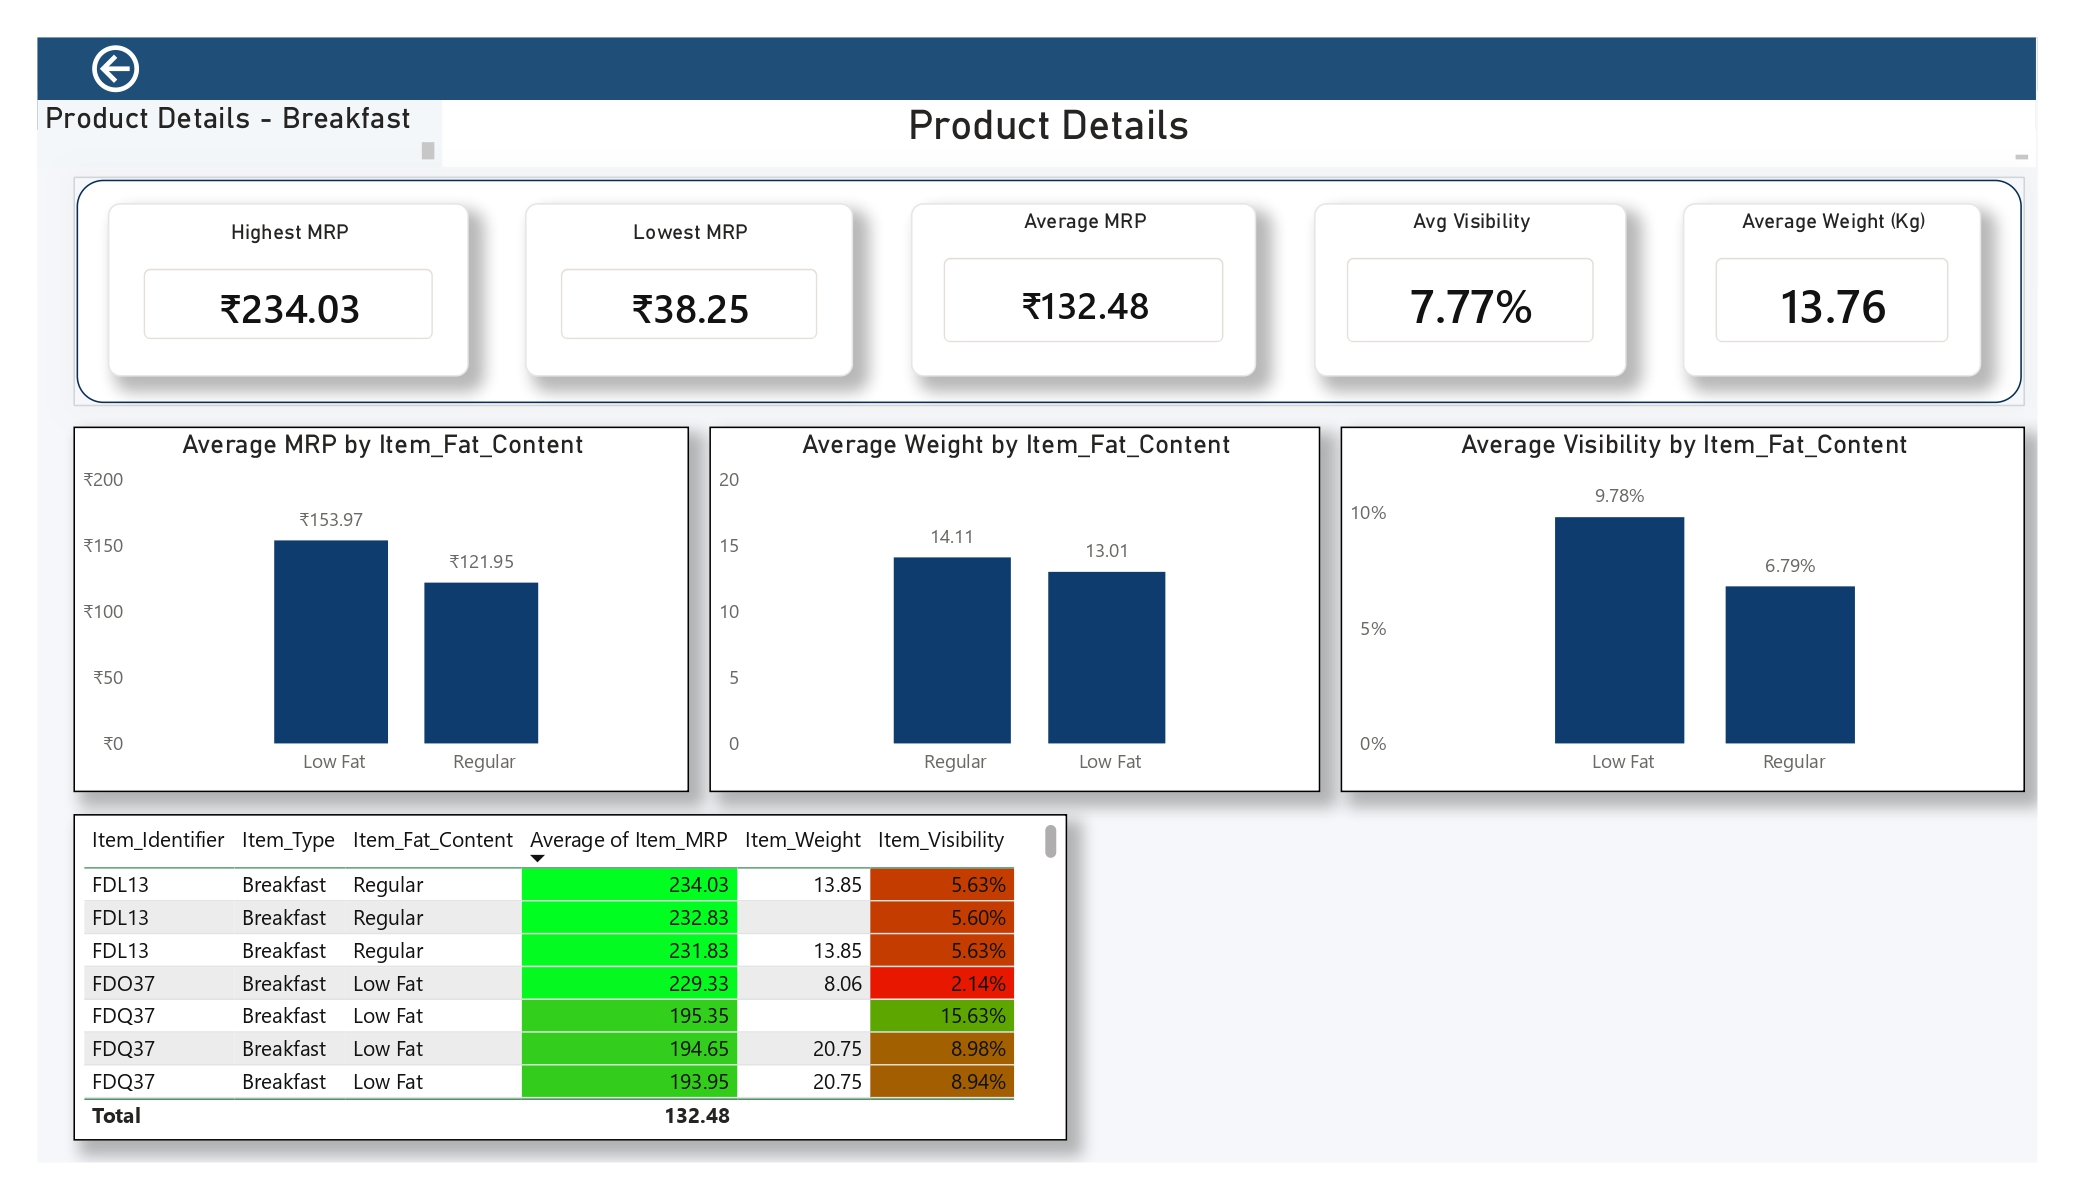

What the dashboard file says about the page in this screenshot:
{"tool":"powerbi","page":{"name":"Product Details","canvas":[1280,720],"ordinal":4},"visuals":[{"type":"shape","box":[0,0,1279.3,58.9],"z":0},{"type":"textbox","title":"Product Details","box":[0,39.9,1279.3,43.3],"z":1000},{"type":"textbox","box":[0,39.6,258.6,43.4],"z":2000},{"type":"actionButton","box":[30.2,0,100.1,39.6],"z":7000},{"type":"shape","box":[22.7,88.7,1249.8,147.3],"z":8000},{"type":"cardVisual","title":"Highest MRP","fields":{"Data":["Meaures.Highest MRP"]},"box":[45.3,105.7,230.3,111.4],"z":9000},{"type":"cardVisual","title":"Lowest MRP","fields":{"Data":["Meaures.Lowest MRP"]},"box":[312.4,105.7,209.6,111.4],"z":10000},{"type":"cardVisual","title":"Average MRP","fields":{"Data":["Meaures.Average MRP"]},"box":[558.8,105.7,220.9,111.4],"z":11000},{"type":"cardVisual","title":"Avg Visibility","fields":{"Data":["Meaures.Average Visibility"]},"box":[816.5,105.7,200.1,111.4],"z":12000},{"type":"cardVisual","title":"Average Weight (Kg)","fields":{"Data":["Meaures.Average Weight"]},"box":[1053.5,105.7,190.7,111.4],"z":13000},{"type":"clusteredColumnChart","fields":{"Y":["Meaures.Average MRP"],"Category":["Big Mart Sales.Item_Fat_Content"]},"box":[22.7,249.2,394.6,234.1],"z":14000},{"type":"clusteredColumnChart","fields":{"Category":["Big Mart Sales.Item_Fat_Content"],"Y":["Meaures.Average Weight"]},"box":[430.4,249.2,390.8,234.1],"z":15000},{"type":"clusteredColumnChart","fields":{"Y":["Meaures.Average Visibility"],"Category":["Big Mart Sales.Item_Fat_Content"]},"box":[834.5,249.2,438,234.1],"z":16000},{"type":"tableEx","fields":{"Values":["Big Mart Sales.Item_Identifier","Big Mart Sales.Item_Type","Big Mart Sales.Item_Fat_Content","Avg(Big Mart Sales.Item_MRP)","Big Mart Sales.Item_Weight","Big Mart Sales.Item_Visibility"]},"box":[22.7,496.5,636.2,209.6],"z":17000}]}

Visuals, with their boxes on the page's 1280x720 design canvas (x1, y1, x2, y2). These are canvas units, not pixel positions in the 2075x1200 screenshot, which may show the page scaled, cropped or inside an application window:
shape: [x1=0, y1=0, x2=1279, y2=59]
"Product Details" textbox: [x1=0, y1=40, x2=1279, y2=83]
textbox: [x1=0, y1=40, x2=259, y2=83]
actionButton: [x1=30, y1=0, x2=130, y2=40]
shape: [x1=23, y1=89, x2=1272, y2=236]
"Highest MRP" cardVisual: [x1=45, y1=106, x2=276, y2=217]
"Lowest MRP" cardVisual: [x1=312, y1=106, x2=522, y2=217]
"Average MRP" cardVisual: [x1=559, y1=106, x2=780, y2=217]
"Avg Visibility" cardVisual: [x1=816, y1=106, x2=1017, y2=217]
"Average Weight (Kg)" cardVisual: [x1=1054, y1=106, x2=1244, y2=217]
clusteredColumnChart - Meaures.Average MRP x Big Mart Sales.Item_Fat_Content: [x1=23, y1=249, x2=417, y2=483]
clusteredColumnChart - Big Mart Sales.Item_Fat_Content x Meaures.Average Weight: [x1=430, y1=249, x2=821, y2=483]
clusteredColumnChart - Meaures.Average Visibility x Big Mart Sales.Item_Fat_Content: [x1=834, y1=249, x2=1272, y2=483]
tableEx - Big Mart Sales.Item_Identifier x Big Mart Sales.Item_Type: [x1=23, y1=496, x2=659, y2=706]
